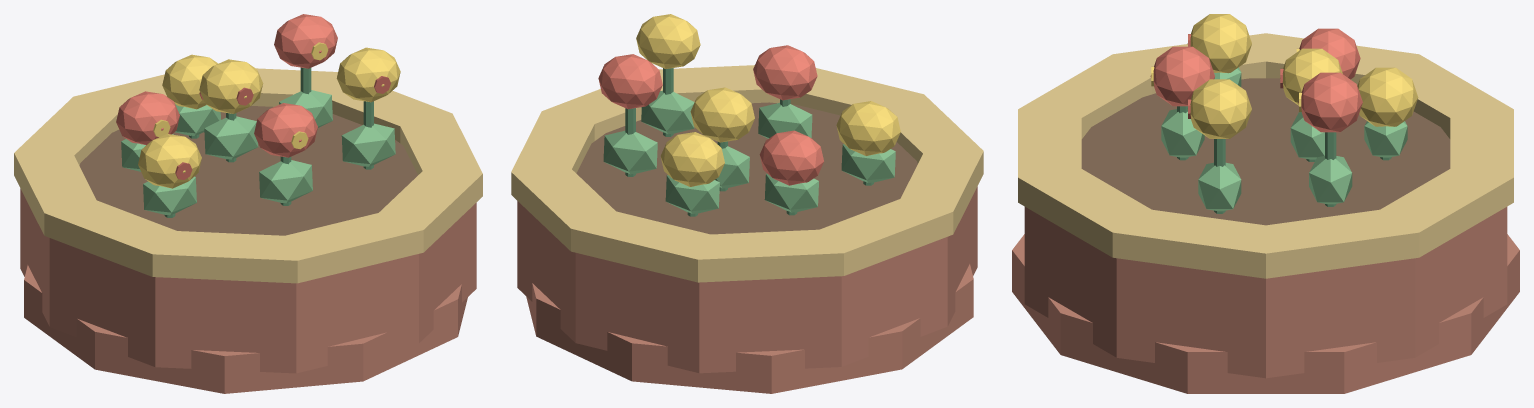
Rendered from FTF_Garden_PlanterTall_RedYellowFlowers_2_2m.glb.
3 renders of one model, left to right at view 1: azimuth 30°, elevation 25°; view 2: azimuth 150°, elevation 25°; view 3: azimuth 270°, elevation 25°, orthographic. The views are drawn at different scales.
Parts seen in each view (by area): view 1: StaticVisual; view 2: StaticVisual; view 3: StaticVisual.
Part boxes in pixels (left/top/right/bottom): StaticVisual: left=14, top=14, right=482, bottom=393; StaticVisual: left=511, top=14, right=983, bottom=393; StaticVisual: left=1012, top=14, right=1519, bottom=393.
Bounding box in the file's own units: 2.26 × 1.26 × 2.2.
